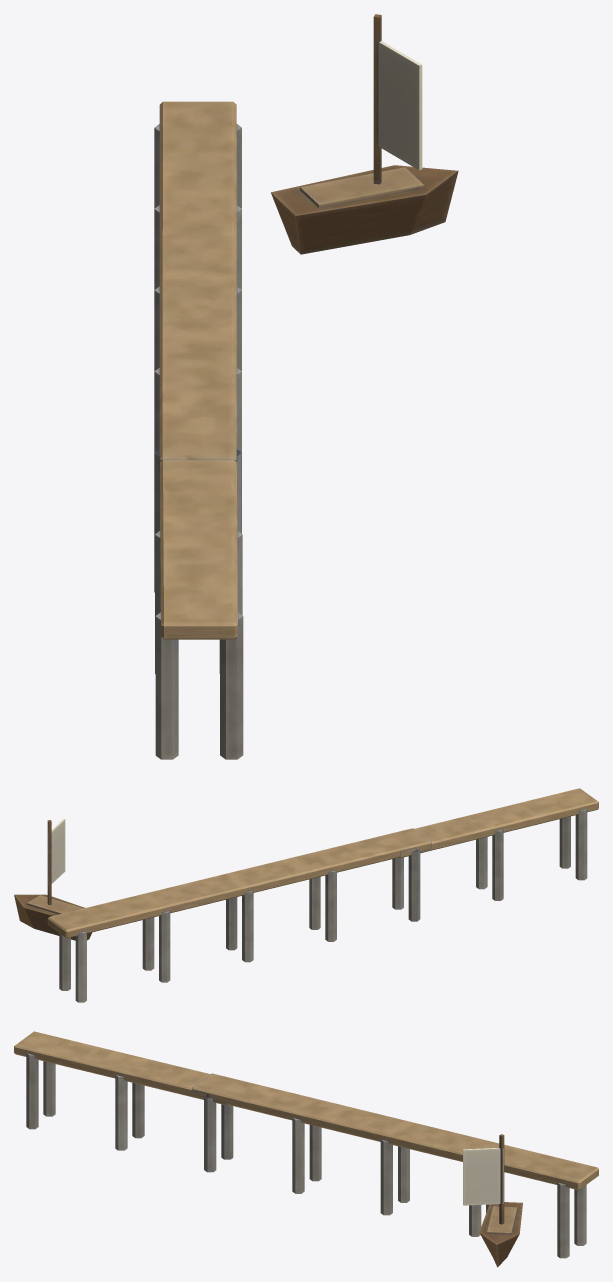
Rendered from harbor-pier-5.glb.
The picture shows the model from 3 angles, top to bottom: view 1: azimuth 30°, elevation 25°; view 2: azimuth 150°, elevation 25°; view 3: azimuth 270°, elevation 25°; orthographic projection. The views are drawn at different scales.
Parts seen in each view (by area): view 1: harbor-pier-5; view 2: harbor-pier-5; view 3: harbor-pier-5.
Boxes of the visible parts, x1,y1,x2,y2 form: harbor-pier-5: [154, 14, 458, 759]; harbor-pier-5: [14, 788, 598, 1002]; harbor-pier-5: [14, 1031, 598, 1267].
Size of the model in its own units: 2.2 by 0.78 by 2.87.
Materials: 1 (1 with a texture image).
